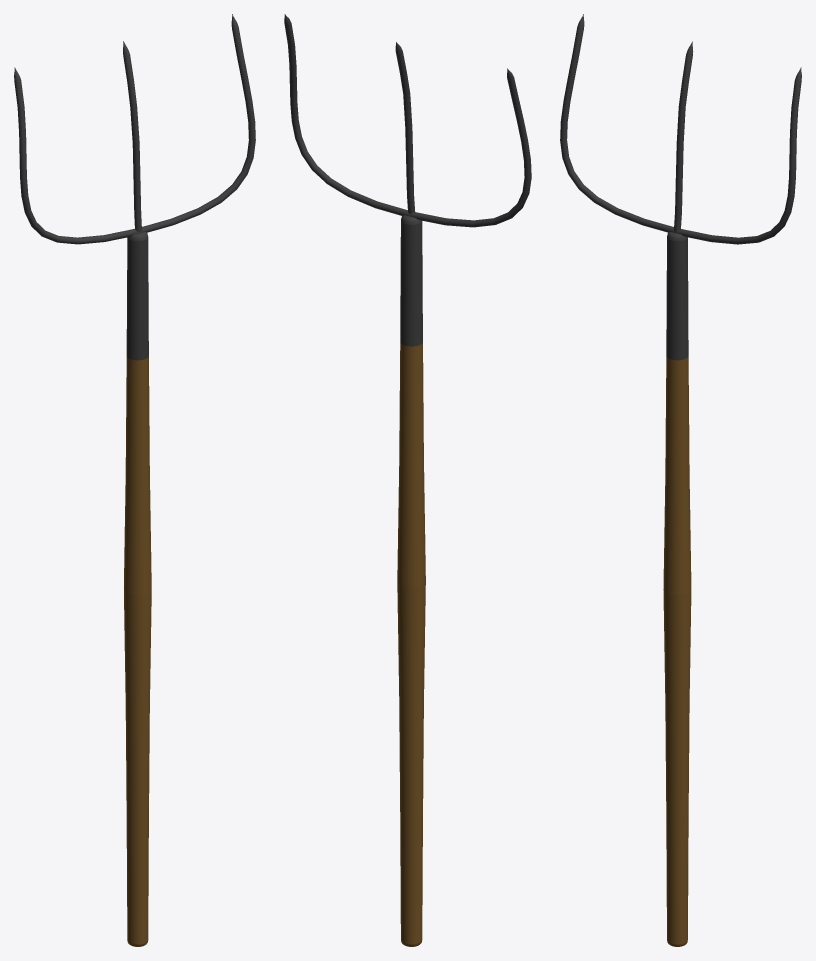
The model's file is pitchfork.fbx.
3 renders of one model, left to right at view 1: azimuth 30°, elevation 25°; view 2: azimuth 150°, elevation 25°; view 3: azimuth 330°, elevation 25°, orthographic. The views are drawn at different scales.
Visible parts, largest first — view 1: Cylinder; view 2: Cylinder; view 3: Cylinder.
Part boxes in pixels (<box>): Cylinder: <box>14,14,255,946</box>; Cylinder: <box>284,14,531,946</box>; Cylinder: <box>560,14,801,946</box>.
Bounding box in the file's own units: 1218 × 4435 × 195.
